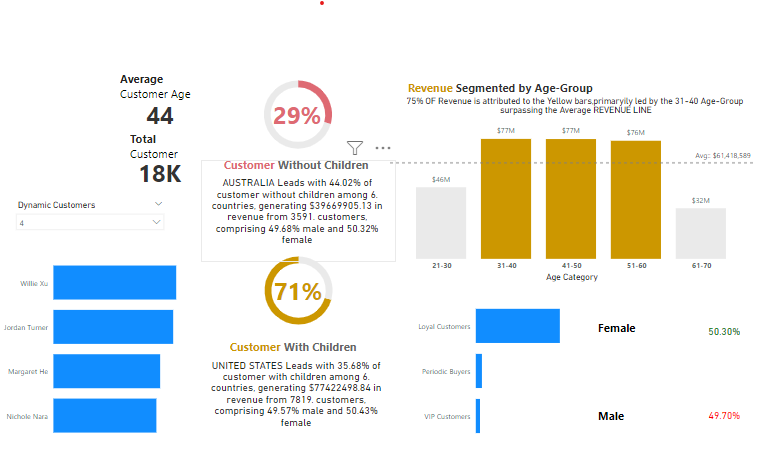

The page's visual inventory and layout, read from the dashboard file:
{"tool":"powerbi","page":{"name":"CustomerPerformance Dashboard","canvas":[1280,720],"ordinal":0},"visuals":[{"type":"clusteredColumnChart","fields":{"Category":["DimCustomer.Age Category"],"Y":["All Measures.Total Revenue"]},"box":[690,141.4,548.6,257.1],"z":0},{"type":"card","fields":{"Values":["Customer Measures.Avg Caption"]},"box":[680,85,558.8,96.2],"z":1000},{"type":"textbox","box":[709.5,85.7,373,42.9],"z":2000},{"type":"donutChart","fields":{"Y":["Customer Measures.% CWC","Customer Measures.% Customer Without Children"]},"box":[407.8,74.4,190,151.1],"z":3000},{"type":"donutChart","fields":{"Y":["Customer Measures.% CWC","Customer Measures.% Customer Without Children"]},"box":[407.1,360,191.4,152.9],"z":4000},{"type":"card","fields":{"Values":["Customer Measures.% Customer Without Children"]},"box":[456.7,126.7,93.3,46.7],"z":5000},{"type":"card","fields":{"Values":["Customer Measures.% CWC"]},"box":[455.7,414.3,92.9,44.3],"z":6000},{"type":"textbox","box":[381.2,216.9,260,43.1],"z":7000},{"type":"textbox","box":[393.3,504.4,235.6,42.2],"z":8000},{"type":"card","fields":{"Values":["Customer Measures.Caption Customers with Children"]},"box":[363.8,224.4,295,150],"z":9000},{"type":"card","fields":{"Values":["Customer Measures.Caption Customers Without  Children"]},"box":[362.5,503.8,295,167.5],"z":10000},{"type":"clusteredBarChart","fields":{"Category":["DimCustomer.Customer Type"],"Y":["All Measures.Total Revenue"]},"box":[690,426.7,275,270],"z":11000},{"type":"clusteredBarChart","fields":{"Category":["DimCustomer.Full Name"],"Y":["Customer Measures.Dynamic customer"]},"box":[37.1,414.3,301.4,282.9],"z":12000},{"type":"slicer","fields":{"Values":["Dynamic Customers.Dynamic Customers"]},"box":[271.8,365.9,58.2,48.2],"z":13000},{"type":"card","fields":{"Values":["Customer Measures.%Female"]},"box":[1157.5,480,82.5,42.5],"z":14000},{"type":"card","fields":{"Values":["Customer Measures.%Male"]},"box":[1163.5,587.3,69.8,31.7],"z":15000},{"type":"card","fields":{"Values":["Customer Measures.Average Customer Age"]},"box":[204.3,120,77.1,62.9],"z":16000},{"type":"card","fields":{"Values":["Customer Measures.#Customers"]},"box":[198.6,245.7,88.6,54.3],"z":17000},{"type":"textbox","box":[187.1,81.4,142.9,70],"z":18000},{"type":"textbox","box":[188.6,202.9,108.6,70],"z":19000},{"type":"textbox","box":[1082.9,577.1,125.7,41.4],"z":20000},{"type":"textbox","box":[1082.9,465.7,112.9,37.1],"z":21000},{"type":"textbox","box":[40,360,187.1,41.4],"z":22000},{"type":"card","fields":{"Values":["Customer Measures.Title Top Customers"]},"box":[37.1,388.6,231.4,38.6],"z":23000},{"type":"card","fields":{"Values":["Customer Measures.female Revenue"]},"box":[1083.1,490.8,73.1,31.5],"z":24000},{"type":"card","fields":{"Values":["Customer Measures.Male Revenue"]},"box":[1083.1,602.3,73.1,30.8],"z":25000},{"type":"textbox","box":[81.7,20,373.3,41.7],"z":26000},{"type":"slicer","fields":{"Values":["DimGeography.Country"]},"box":[1029.1,30.9,210.9,61.8],"z":27000},{"type":"textbox","box":[1034.5,20,122.7,31.8],"z":28000},{"type":"textbox","box":[690,426.7,186.7,41.7],"z":29000},{"type":"textbox","box":[1010,426.7,223.3,38.3],"z":30000}]}

Visuals, with their boxes on the page's 1280x720 design canvas (x1, y1, x2, y2). These are canvas units, not pixel positions in the 762x466 screenshot, which may show the page scaled, cropped or inside an application window:
clusteredColumnChart - DimCustomer.Age Category x All Measures.Total Revenue: 690 141 1239 398
card - Customer Measures.Avg Caption: 680 85 1239 181
textbox: 710 86 1082 129
donutChart - Customer Measures.% CWC x Customer Measures.% Customer Without Children: 408 74 598 226
donutChart - Customer Measures.% CWC x Customer Measures.% Customer Without Children: 407 360 598 513
card - Customer Measures.% Customer Without Children: 457 127 550 173
card - Customer Measures.% CWC: 456 414 549 459
textbox: 381 217 641 260
textbox: 393 504 629 547
card - Customer Measures.Caption Customers with Children: 364 224 659 374
card - Customer Measures.Caption Customers Without  Children: 362 504 658 671
clusteredBarChart - DimCustomer.Customer Type x All Measures.Total Revenue: 690 427 965 697
clusteredBarChart - DimCustomer.Full Name x Customer Measures.Dynamic customer: 37 414 338 697
slicer - Dynamic Customers.Dynamic Customers: 272 366 330 414
card - Customer Measures.%Female: 1158 480 1240 522
card - Customer Measures.%Male: 1164 587 1233 619
card - Customer Measures.Average Customer Age: 204 120 281 183
card - Customer Measures.#Customers: 199 246 287 300
textbox: 187 81 330 151
textbox: 189 203 297 273
textbox: 1083 577 1209 618
textbox: 1083 466 1196 503
textbox: 40 360 227 401
card - Customer Measures.Title Top Customers: 37 389 268 427
card - Customer Measures.female Revenue: 1083 491 1156 522
card - Customer Measures.Male Revenue: 1083 602 1156 633
textbox: 82 20 455 62
slicer - DimGeography.Country: 1029 31 1240 93
textbox: 1034 20 1157 52
textbox: 690 427 877 468
textbox: 1010 427 1233 465
